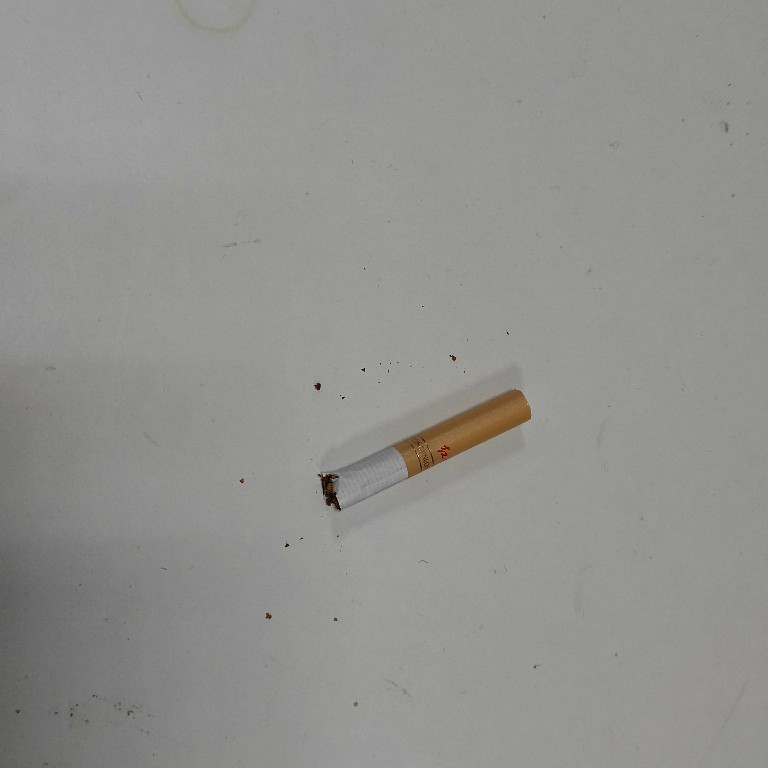cigarette: (318, 385, 535, 515)
